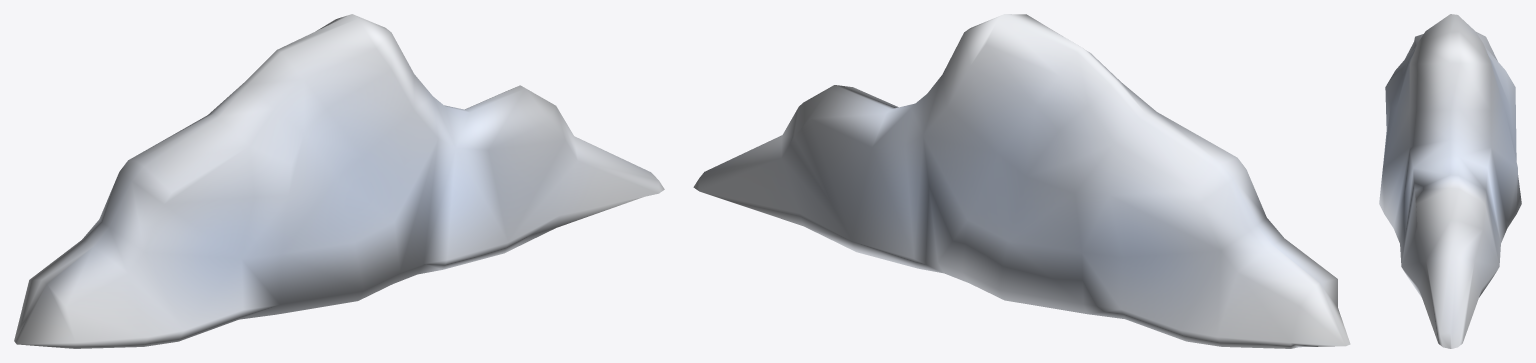
The model's file is ENV3010003.fbx.
3 renders of one model, left to right at view 1: azimuth 30°, elevation 25°; view 2: azimuth 150°, elevation 25°; view 3: azimuth 270°, elevation 25°, orthographic. The views are drawn at different scales.
Parts seen in each view (by area): view 1: smENV3010003; view 2: smENV3010003; view 3: smENV3010003.
Part boxes in pixels (<box>): smENV3010003: <box>14,14,664,348</box>; smENV3010003: <box>693,14,1350,348</box>; smENV3010003: <box>1379,14,1521,348</box>.
Bounding box in the file's own units: 351 × 137 × 83.04.
Materials: 1 (1 with a texture image).
